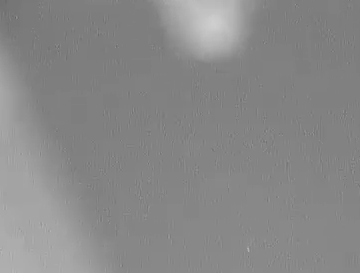Target: (247, 248, 249, 251)
